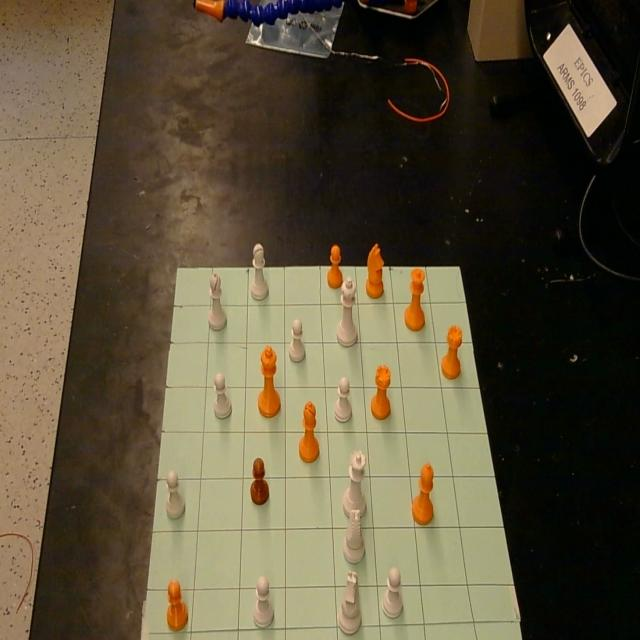orange_bishop: (411, 462, 435, 526), (298, 401, 320, 462)
orange_king: (258, 345, 281, 418)
orange_knight: (366, 242, 384, 298)
orange_pawn: (166, 578, 188, 631), (250, 457, 269, 505), (328, 244, 343, 289)
orange_queen: (404, 268, 425, 332)
orange_rook: (441, 324, 463, 380), (371, 364, 391, 420)
white_bishop: (208, 271, 227, 331), (250, 242, 268, 301)
white_king: (337, 277, 358, 346)
white_knight: (338, 569, 362, 633), (342, 508, 365, 564)
white_pawn: (253, 575, 274, 628), (382, 566, 403, 618), (166, 469, 186, 518), (212, 372, 232, 420), (334, 376, 352, 424), (289, 319, 305, 362)
white_queen: (342, 451, 367, 519)
